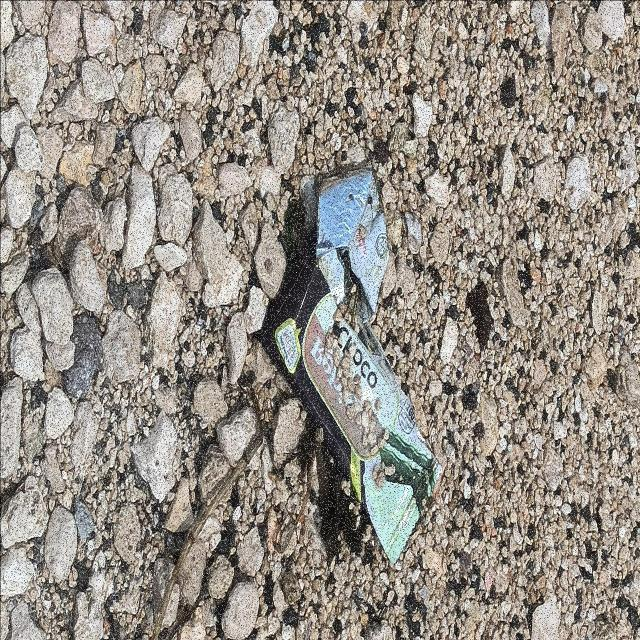plastic_waste: (260, 161, 444, 567)
